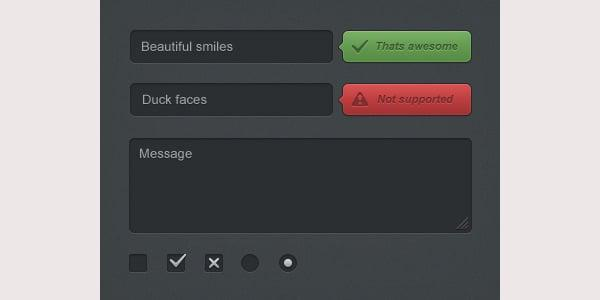checkbox: (204, 255, 226, 274), (168, 254, 187, 272), (131, 255, 147, 273)
input: (131, 138, 471, 234), (131, 33, 333, 66), (133, 85, 334, 117)
radio: (239, 253, 262, 275), (278, 255, 301, 276)
